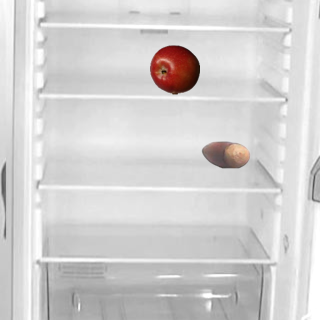Apple Braeburn: (149, 44, 199, 94)
Hazelnut: (200, 129, 250, 179)
